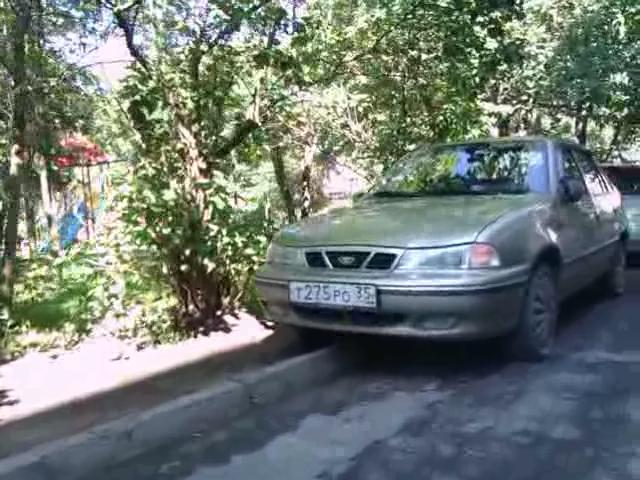car license plate: (287, 278, 379, 311)
